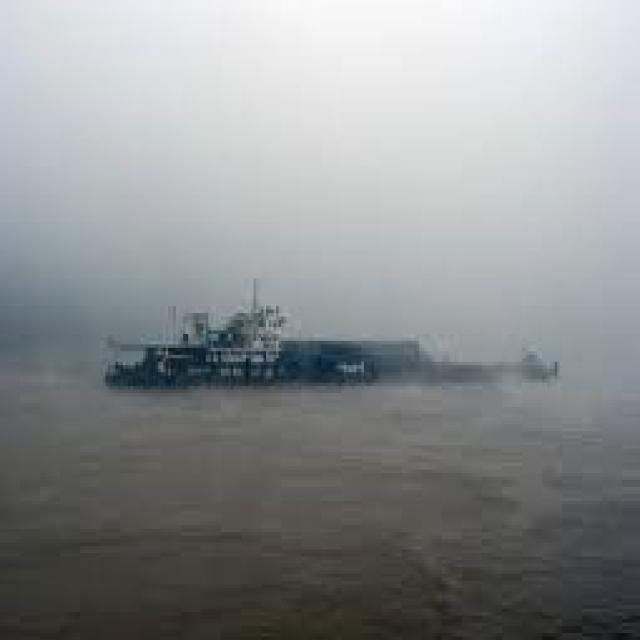fishing boat: (95, 278, 559, 402)
